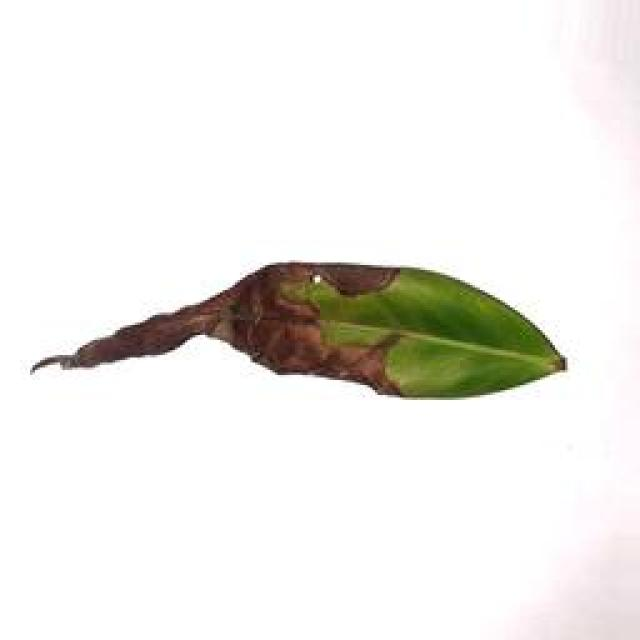Brown Blight: (31, 243, 574, 421)
